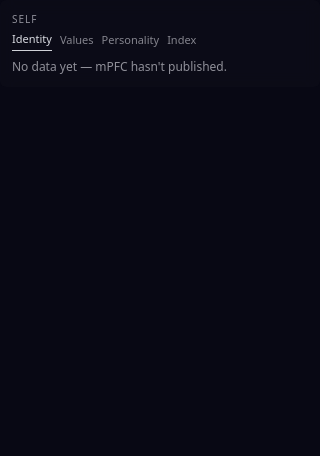
SelfState › autobio sorts newest-first and truncates at 20
Click the button "Index" at point(182, 41), box [167,31,196,50]
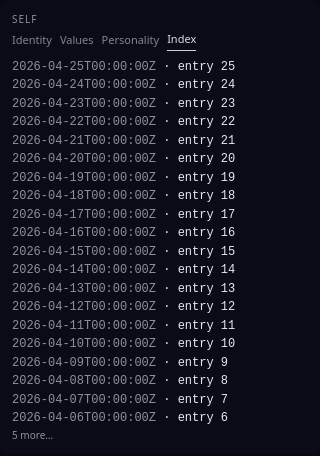
Check: the list item "2026-04-25T00:00:00Z · entry 25" is shown, box [12,60,235,74]
Check: the number of list items is 21
